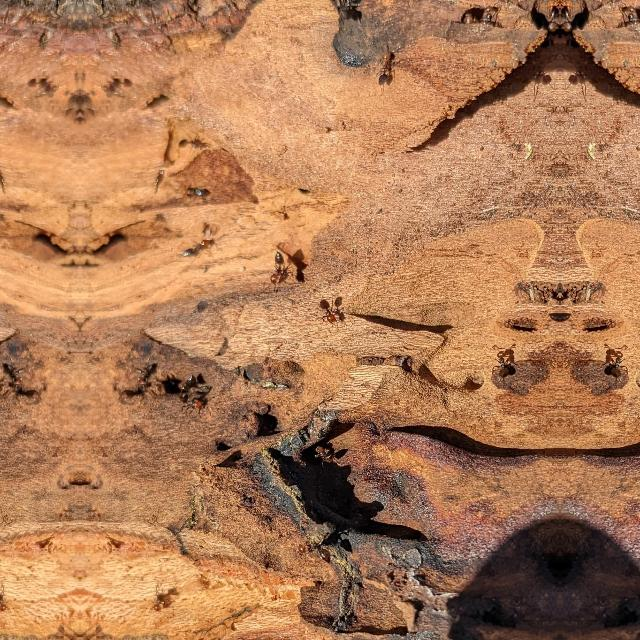Crematogaster: (261, 250, 295, 292), (486, 344, 516, 386), (604, 344, 634, 386), (373, 47, 399, 89), (296, 538, 330, 566), (174, 238, 212, 260), (148, 587, 170, 619), (318, 297, 340, 325), (177, 396, 205, 418), (135, 365, 151, 389), (9, 365, 25, 389), (0, 587, 12, 619)
